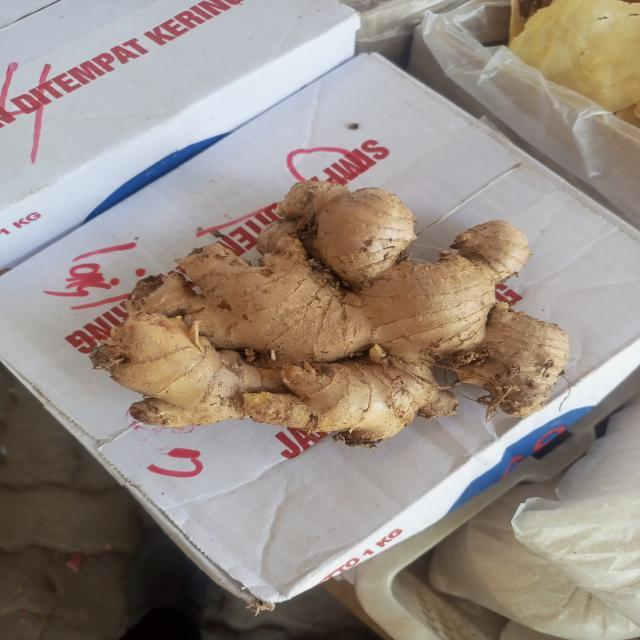ginger: (102, 174, 568, 438)
